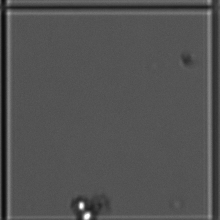Dead Cell: (92, 195, 116, 212)
Living Cell: (71, 196, 87, 212)
